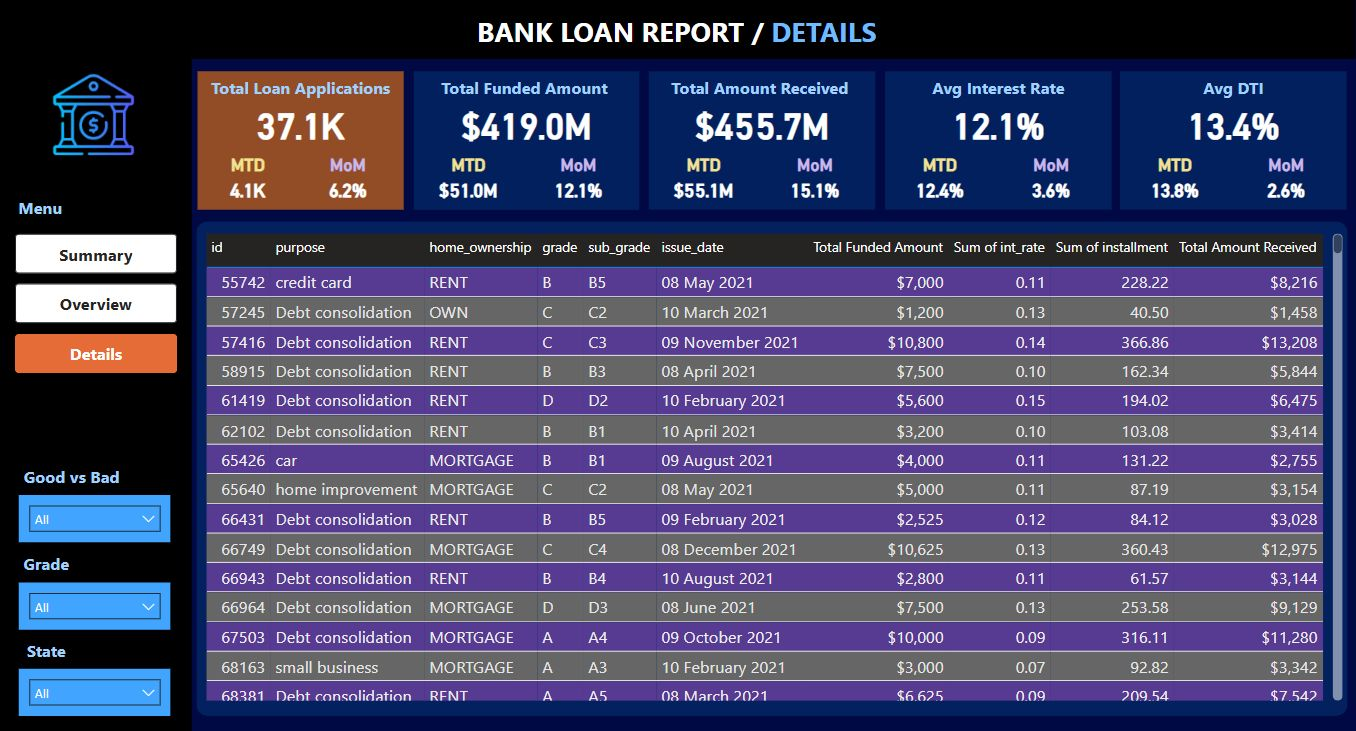

Layout of this report page (visuals, bound fields, positions):
{"tool":"powerbi","page":{"name":"Details","canvas":[1335,720],"ordinal":2},"visuals":[{"type":"shape","box":[0,0,1330.1,57.8],"z":0},{"type":"textbox","box":[433.7,7.2,462.7,50.6],"z":1000},{"type":"shape","box":[0,57.8,188,662.2],"z":2000},{"type":"shape","box":[194,69.5,202.7,136.1],"z":3000,"group":"g1"},{"type":"shape","box":[405.8,69.5,221.5,136.1],"z":3000,"group":"g3"},{"type":"shape","box":[636.5,69.5,222.7,135.9],"z":3000,"group":"g4"},{"type":"shape","box":[868.2,69.5,222.7,135.9],"z":3000,"group":"g5"},{"type":"shape","box":[1100,69.5,222.7,135.9],"z":3000,"group":"g6"},{"type":"pageNavigator","box":[14.5,229.9,159,137.3],"z":3000},{"type":"image","box":[33.3,57.8,115.7,112.8],"z":4000},{"type":"card","fields":{"Values":["financial_loan.Total Loan Applications"]},"box":[194,88.3,202.7,65.2],"z":4000,"group":"g1"},{"type":"card","fields":{"Values":["financial_loan.Total Funded Amount"]},"box":[405.8,88.3,221.5,65.2],"z":4000,"group":"g3"},{"type":"card","fields":{"Values":["financial_loan.Total Amount Recieved"]},"box":[636.5,88.3,222.7,65.1],"z":4000,"group":"g4"},{"type":"card","fields":{"Values":["financial_loan.Avg Interest Rate"]},"box":[868.2,88.3,222.7,65.1],"z":4000,"group":"g5"},{"type":"card","fields":{"Values":["financial_loan.Avg DTI"]},"box":[1100,88.3,222.7,65.1],"z":4000,"group":"g6"},{"type":"textbox","box":[194,69.5,202.7,34.8],"z":5000,"group":"g1"},{"type":"textbox","box":[405.8,69.5,221.5,34.8],"z":5000,"group":"g3"},{"type":"textbox","box":[636.5,69.5,222.7,34.7],"z":5000,"group":"g4"},{"type":"textbox","box":[868.2,69.5,222.7,34.7],"z":5000,"group":"g5"},{"type":"textbox","box":[1100,69.5,222.7,34.7],"z":5000,"group":"g6"},{"type":"textbox","box":[1.8,187.5,76.6,34.7],"z":5000},{"type":"card","title":"MTD","fields":{"Values":["financial_loan.MTD Total Amount Received"]},"box":[655.3,151.9,70.8,52],"z":6000,"group":"g4"},{"type":"card","title":"MTD","fields":{"Values":["financial_loan.MTD Avg Int Rate"]},"box":[887,151.9,70.8,52],"z":6000,"group":"g5"},{"type":"card","title":"MTD","fields":{"Values":["financial_loan.MTD Avg DTI"]},"box":[1118.8,151.9,70.8,52],"z":6000,"group":"g6"},{"type":"card","title":"MTD","fields":{"Values":["financial_loan.MTD Loan Applications"]},"box":[211.1,152,64.5,52.1],"z":6000,"group":"g1"},{"type":"card","title":"MTD","fields":{"Values":["financial_loan.MTD Funded Amount"]},"box":[424.5,152,70.5,52.1],"z":6000,"group":"g3"},{"type":"slicer","fields":{"Values":["financial_loan.Good vs Bad Loan"]},"box":[18.8,434.7,148.9,54.9],"z":6000},{"type":"card","title":"MoM","fields":{"Values":["financial_loan.MoM Total Amount Received"]},"box":[763.7,151.9,70.8,52],"z":7000,"group":"g4"},{"type":"card","title":"MoM","fields":{"Values":["financial_loan.MoM Avg Int Rate"]},"box":[995.4,151.9,70.8,52],"z":7000,"group":"g5"},{"type":"card","title":"MoM","fields":{"Values":["financial_loan.MoM Avg DTI"]},"box":[1227.2,151.9,70.8,52],"z":7000,"group":"g6"},{"type":"card","title":"MoM","fields":{"Values":["financial_loan.MoM Loan Application"]},"box":[309.8,152,64.5,52.1],"z":7000,"group":"g1"},{"type":"card","title":"MoM","fields":{"Values":["financial_loan.MoM Total Funded Amount"]},"box":[532.4,152,70.5,52.1],"z":7000,"group":"g3"},{"type":"textbox","box":[2.9,400.5,135.9,34.7],"z":7000},{"type":"group","id":"g1","title":"Group 2","box":[194,69.5,202.7,136.1],"z":7002,"group":"g2"},{"type":"slicer","fields":{"Values":["financial_loan.grade"]},"box":[18.8,543.1,148.9,54.9],"z":8000},{"type":"slicer","fields":{"Values":["financial_loan.address_state"]},"box":[18.8,647.1,148.9,54.9],"z":9000},{"type":"textbox","box":[0,508.4,91.1,34.7],"z":10000},{"type":"textbox","box":[0,612.4,91.1,34.7],"z":11000},{"type":"group","id":"g2","title":"Group 1","box":[194,69.5,202.7,136.1],"z":12000},{"type":"group","id":"g3","title":"Group 2","box":[405.8,69.5,221.5,136.1],"z":13000},{"type":"group","id":"g4","title":"Group 2","box":[636.5,69.5,222.7,135.9],"z":14000},{"type":"group","id":"g5","title":"Group 2","box":[868.2,69.5,222.7,135.9],"z":15000},{"type":"group","id":"g6","title":"Group 2","box":[1100,69.5,223,136.1],"z":16000},{"type":"shape","box":[192.3,216.9,1130.6,485.8],"z":17000},{"type":"tableEx","fields":{"Values":["financial_loan.id","financial_loan.purpose","financial_loan.home_ownership","financial_loan.grade","financial_loan.sub_grade","financial_loan.issue_date","financial_loan.Total Funded Amount","financial_loan.int_rate","Sum(financial_loan.installment)","financial_loan.Total Amount Received"]},"box":[196.6,224.1,1126.3,468.4],"z":18000}]}

Visuals, with their boxes in screenshot pixels (x1, y1, x2, y2), scaled from the page's 1335x720 canvas onto the 1356x731 screenshot:
shape: 0/0/1351/59
textbox: 441/7/911/59
shape: 0/59/191/730
shape: 197/71/403/209
shape: 412/71/637/209
shape: 647/71/873/209
shape: 882/71/1108/209
shape: 1117/71/1344/209
pageNavigator: 15/233/176/373
image: 34/59/151/173
card - financial_loan.Total Loan Applications: 197/90/403/156
card - financial_loan.Total Funded Amount: 412/90/637/156
card - financial_loan.Total Amount Recieved: 647/90/873/156
card - financial_loan.Avg Interest Rate: 882/90/1108/156
card - financial_loan.Avg DTI: 1117/90/1344/156
textbox: 197/71/403/106
textbox: 412/71/637/106
textbox: 647/71/873/106
textbox: 882/71/1108/106
textbox: 1117/71/1344/106
textbox: 2/190/80/226
"MTD" card: 666/154/738/207
"MTD" card: 901/154/973/207
"MTD" card: 1136/154/1208/207
"MTD" card: 214/154/280/207
"MTD" card: 431/154/503/207
slicer - financial_loan.Good vs Bad Loan: 19/441/170/497
"MoM" card: 776/154/848/207
"MoM" card: 1011/154/1083/207
"MoM" card: 1247/154/1318/207
"MoM" card: 315/154/380/207
"MoM" card: 541/154/612/207
textbox: 3/407/141/442
"Group 2" group: 197/71/403/209
slicer - financial_loan.grade: 19/551/170/607
slicer - financial_loan.address_state: 19/657/170/713
textbox: 0/516/93/551
textbox: 0/622/93/657
"Group 1" group: 197/71/403/209
"Group 2" group: 412/71/637/209
"Group 2" group: 647/71/873/209
"Group 2" group: 882/71/1108/209
"Group 2" group: 1117/71/1344/209
shape: 195/220/1344/713
tableEx - financial_loan.id x financial_loan.purpose: 200/228/1344/703
